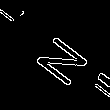N_NW: (19, 24, 85, 86)
